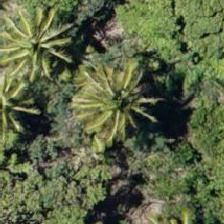coconut_tree: (65, 51, 155, 141), (0, 0, 79, 86), (0, 53, 45, 143)
